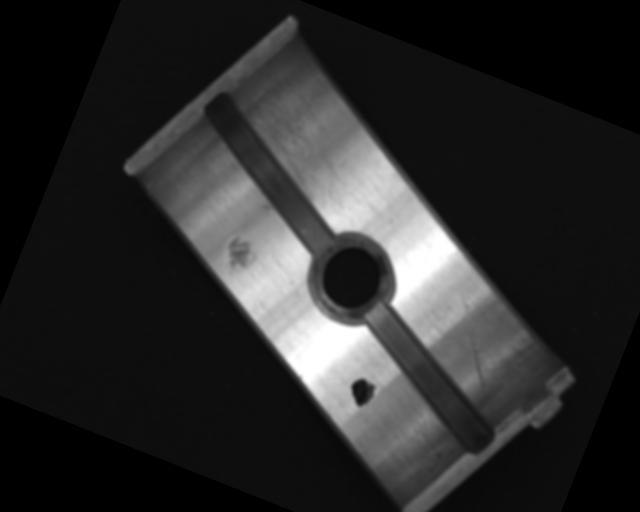blot: (344, 374, 379, 411)
bruise: (217, 232, 258, 281)
gap: (170, 88, 369, 261), (333, 300, 522, 459)
hole: (301, 223, 404, 333)
nick: (433, 294, 514, 392)
scratch: (219, 68, 380, 215)
